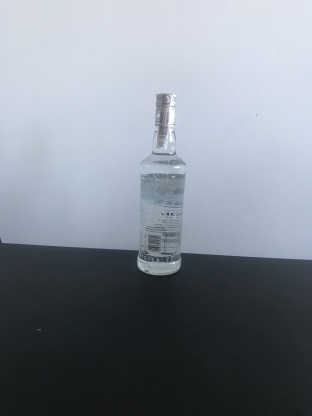nakretka: (153, 89, 177, 129)
